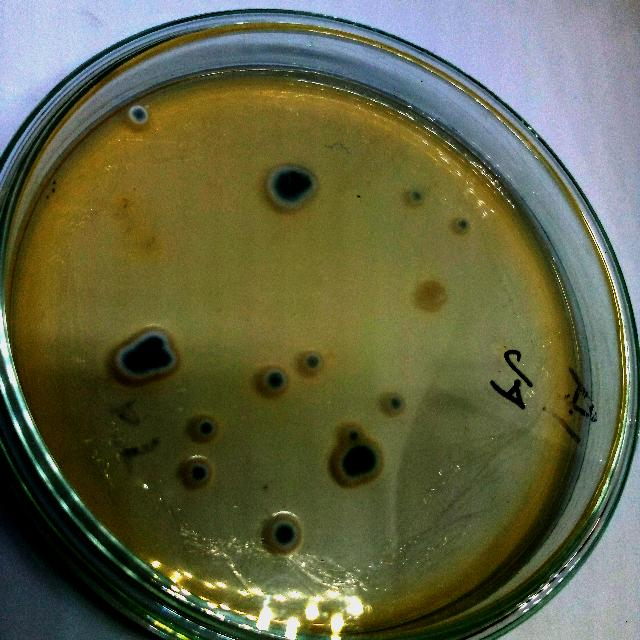colony: (262, 165, 322, 213), (264, 514, 306, 556), (114, 342, 152, 388), (411, 275, 454, 313), (346, 440, 382, 476), (136, 326, 170, 358), (144, 345, 180, 375), (332, 452, 360, 486), (260, 364, 290, 394), (183, 456, 213, 486), (379, 388, 406, 418), (300, 348, 328, 376), (125, 101, 153, 129), (190, 415, 218, 441), (404, 182, 430, 208), (342, 424, 364, 446), (453, 214, 473, 234)
